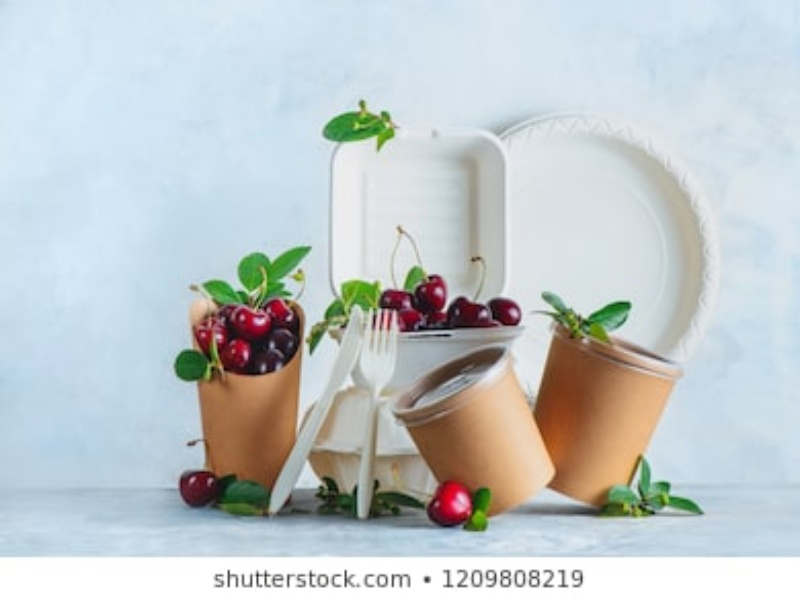plastic-plate: (483, 109, 722, 380)
plastic-silverware: (263, 302, 364, 521), (353, 305, 401, 521)
